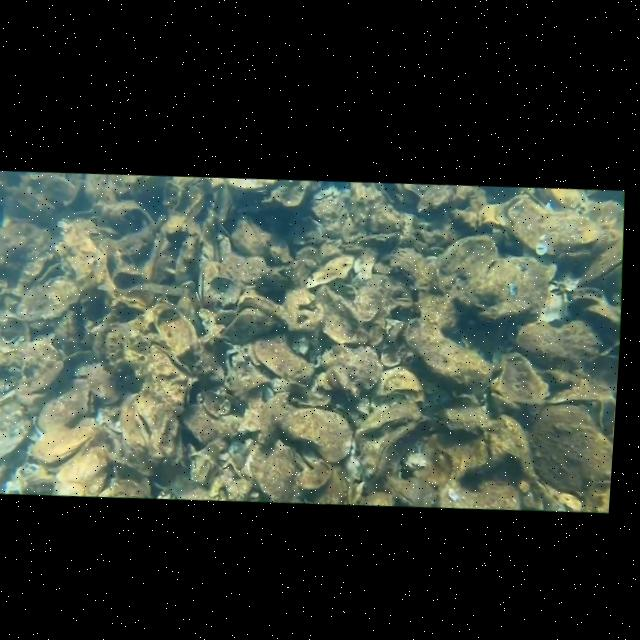Oyster-Closed: (453, 256, 548, 320), (405, 319, 492, 385), (507, 197, 602, 254), (55, 219, 115, 291), (360, 419, 428, 482), (281, 407, 352, 463), (189, 439, 253, 501), (356, 406, 420, 455), (225, 290, 283, 344), (490, 352, 548, 405), (252, 337, 314, 383), (12, 279, 80, 319), (15, 173, 78, 213), (32, 426, 94, 464), (75, 358, 116, 407), (100, 200, 152, 234), (5, 463, 56, 495), (388, 477, 436, 509), (198, 258, 218, 301)
Oyster-Indeterminate: (152, 303, 197, 356)
Oyster-Open: (121, 394, 179, 457)
